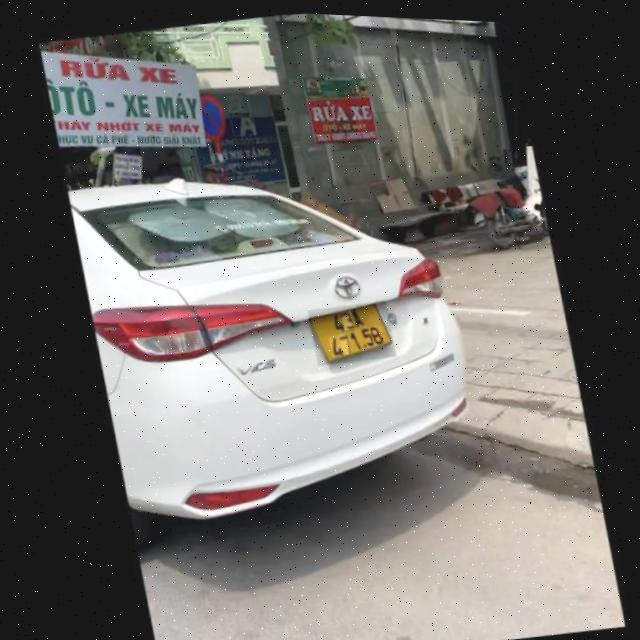car: (64, 136, 489, 565)
plate: (301, 297, 404, 372)
